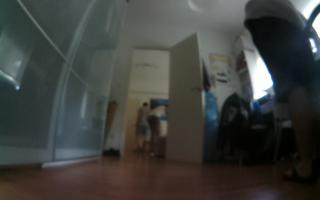person: (241, 1, 318, 182), (145, 101, 170, 159), (133, 99, 151, 158)
